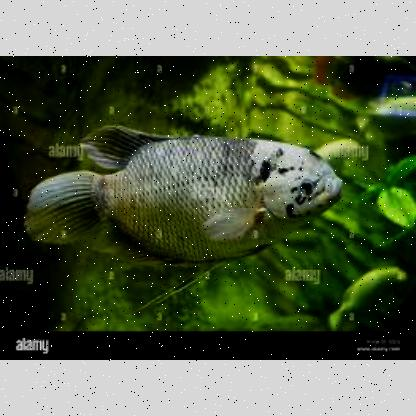gurame: (28, 126, 341, 264)
